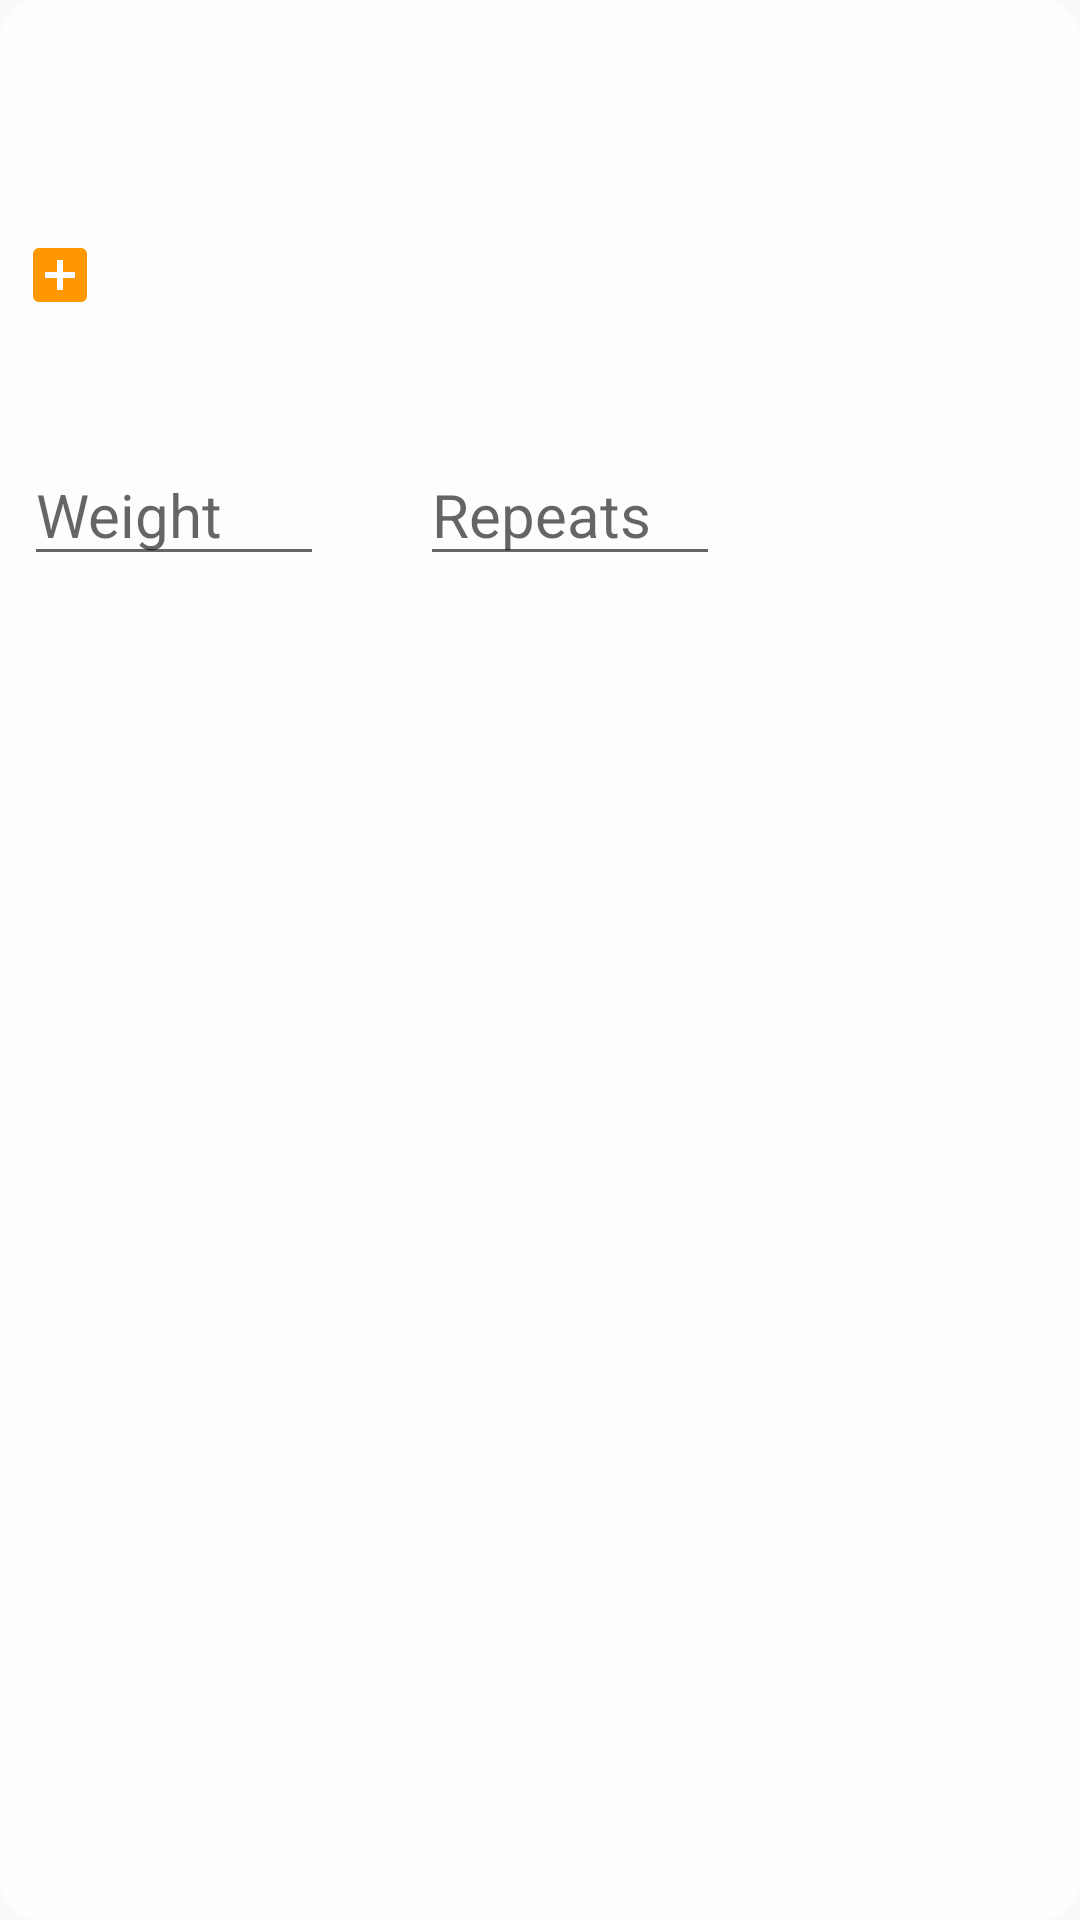

Icons on this 1080 × 1920 Android screen, each with the point to tap as (x,y):
add box: (60,275)
